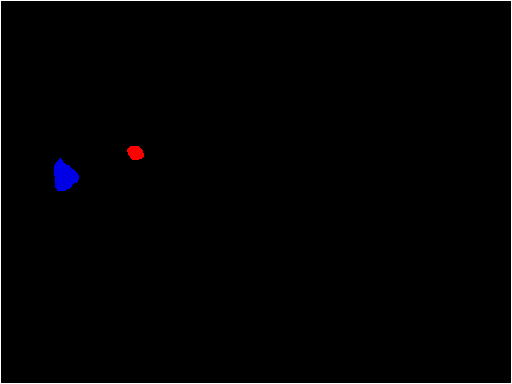chipped: (55, 160, 75, 191)
detached: (126, 142, 144, 159)
